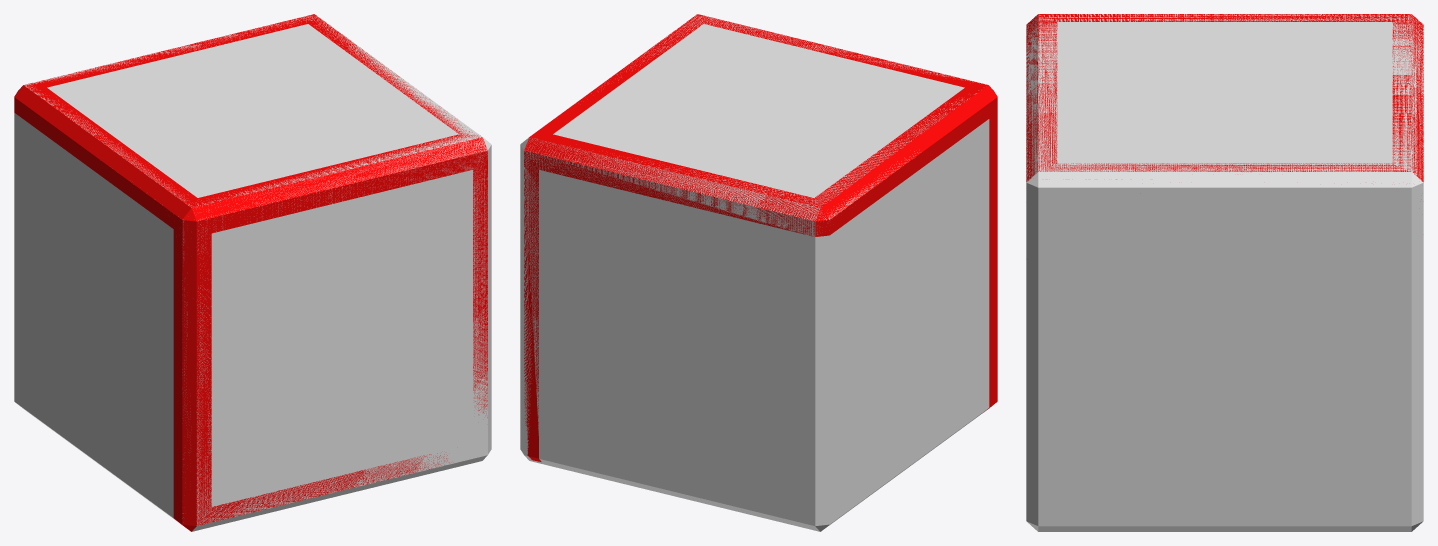
Rendered from frame-corner.glb.
3 views of the same model, side by side, from view 1: azimuth 30°, elevation 25°; view 2: azimuth 150°, elevation 25°; view 3: azimuth 270°, elevation 25° (orthographic). The views are drawn at different scales.
Parts seen in each view (by area): view 1: フレーム１.003; view 2: フレーム１.003; view 3: フレーム１.003.
Part boxes in pixels (x1,y1,x2,y2): フレーム１.003: [14, 14, 491, 531]; フレーム１.003: [520, 14, 997, 531]; フレーム１.003: [1026, 14, 1423, 531].
Bounding box in the file's own units: 1.16 × 1.16 × 1.16.
